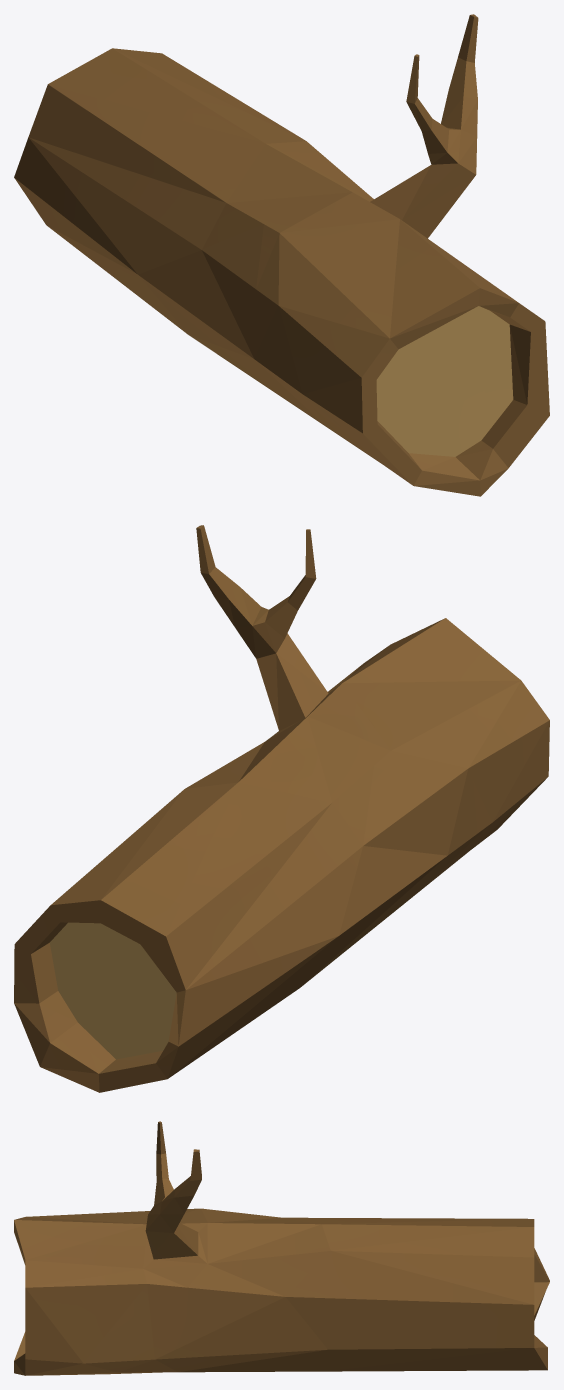
File: log_4.obj
3 renders of one model, top to bottom at view 1: azimuth 30°, elevation 25°; view 2: azimuth 150°, elevation 25°; view 3: azimuth 270°, elevation 25°, orthographic. The views are drawn at different scales.
Parts seen in each view (by area): view 1: log_4_Material; view 2: log_4_Material; view 3: log_4_Material.
Boxes of the visible parts, x1=… form: log_4_Material: x1=14, y1=14, x2=549, y2=496; log_4_Material: x1=14, y1=525, x2=549, y2=1092; log_4_Material: x1=14, y1=1121, x2=549, y2=1375.
Size of the model in its own units: 0.1991 by 0.2883 by 0.5271.
